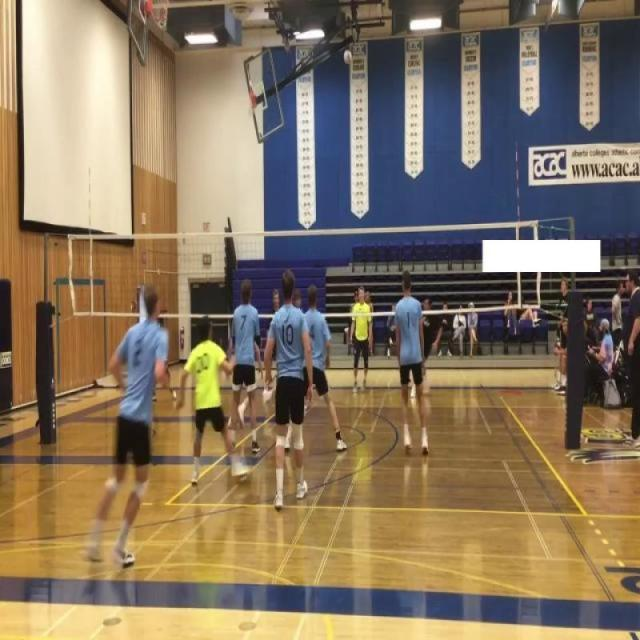volleyball: (343, 49, 352, 66)
